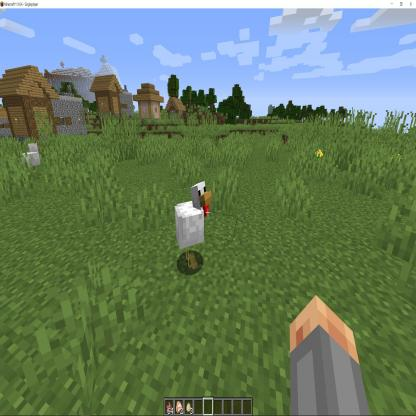minecraft-pigs: (172, 175, 214, 277), (22, 140, 44, 184)
